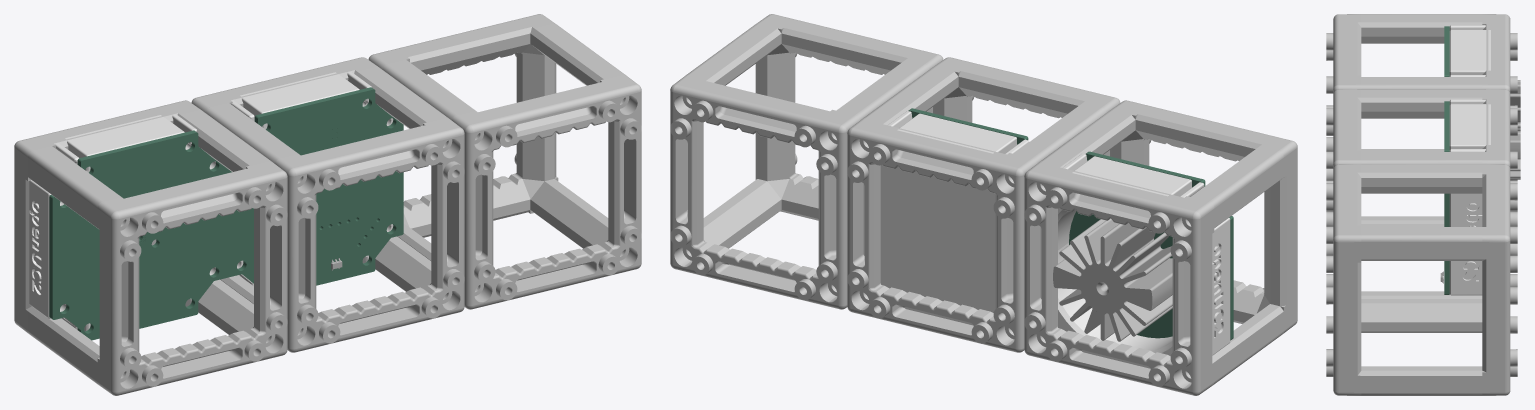
Rendered from M274_AC_0301_20_Beleuchtung_IlluminationCube.glb.
3 renders of one model, left to right at view 1: azimuth 30°, elevation 25°; view 2: azimuth 150°, elevation 25°; view 3: azimuth 270°, elevation 25°, orthographic. The views are drawn at different scales.
Parts seen in each view (by area): view 1: empty_4, empty_6, empty_10, empty_8, empty_11, empty_7, empty_5, empty_9; view 2: empty_7, empty_5, empty_11, empty_9, empty_6, empty_10, empty_2, empty_8, empty_4; view 3: empty_11, empty_10, empty_8, empty_5, empty_6, empty_9, empty_7, empty_4, empty_2.
Boxes of the visible parts, bbox=[...] form: empty_4: bbox=[49, 87, 403, 340]; empty_6: bbox=[28, 146, 287, 395]; empty_10: bbox=[382, 60, 641, 309]; empty_8: bbox=[205, 103, 464, 352]; empty_11: bbox=[368, 14, 625, 288]; empty_7: bbox=[14, 100, 270, 384]; empty_5: bbox=[29, 72, 393, 331]; empty_9: bbox=[191, 57, 447, 332]; empty_7: bbox=[1024, 110, 1283, 395]; empty_5: bbox=[863, 111, 1230, 368]; empty_11: bbox=[670, 23, 859, 309]; empty_9: bbox=[847, 67, 1036, 352]; empty_6: bbox=[1043, 100, 1297, 339]; empty_10: bbox=[688, 14, 943, 253]; empty_2: bbox=[1053, 218, 1172, 341]; empty_8: bbox=[866, 57, 1120, 296]; empty_4: bbox=[908, 108, 1233, 340]; empty_11: bbox=[1361, 164, 1517, 395]; empty_10: bbox=[1326, 164, 1482, 395]; empty_8: bbox=[1326, 89, 1482, 298]; empty_5: bbox=[1449, 25, 1490, 295]; empty_6: bbox=[1326, 14, 1482, 223]; empty_9: bbox=[1361, 89, 1517, 286]; empty_7: bbox=[1361, 14, 1517, 211]; empty_4: bbox=[1444, 26, 1449, 294]; empty_2: bbox=[1510, 80, 1520, 179].
Size of the model in its own units: 150 by 49.8 by 54.7.
